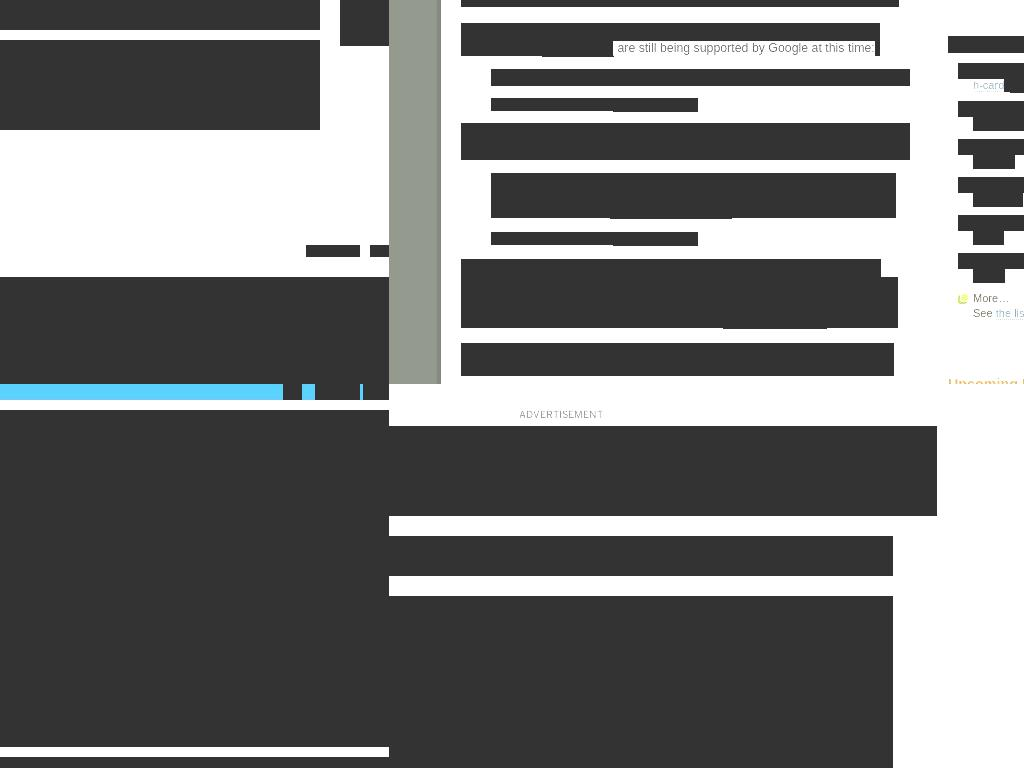button: (389, 596, 893, 768), (0, 277, 389, 384), (0, 40, 320, 130), (147, 440, 389, 514), (147, 539, 389, 613), (147, 638, 389, 712), (340, 297, 389, 371), (340, 0, 389, 46), (743, 277, 882, 293), (610, 205, 732, 219), (723, 313, 827, 329), (613, 98, 698, 112), (613, 232, 698, 246), (542, 41, 614, 57), (756, 343, 809, 359), (973, 117, 1024, 131), (973, 193, 1023, 207), (973, 155, 1015, 169), (973, 269, 1005, 283), (973, 79, 1004, 93), (973, 231, 1004, 245), (995, 307, 1024, 321), (1010, 79, 1024, 93)
heading: (0, 297, 320, 321), (948, 36, 1024, 53)
iframe: (389, 426, 937, 516)
image: (0, 410, 389, 747), (389, 596, 893, 768), (315, 384, 360, 400), (363, 384, 389, 400), (283, 384, 302, 400), (364, 316, 380, 332), (364, 0, 380, 8)
link: (0, 321, 320, 341), (306, 245, 360, 257), (370, 245, 389, 257), (1010, 79, 1024, 93)
text: (0, 40, 320, 130), (461, 277, 898, 328), (389, 536, 893, 576), (491, 173, 896, 218), (461, 123, 910, 160), (461, 343, 894, 376), (461, 259, 881, 292), (461, 23, 880, 56), (147, 457, 389, 513), (147, 556, 389, 612), (147, 655, 367, 711), (491, 69, 910, 86), (389, 410, 913, 421), (461, 343, 756, 358), (613, 41, 875, 56), (55, 757, 389, 768), (461, 0, 899, 7), (147, 440, 389, 452), (147, 539, 389, 551), (147, 638, 389, 650), (491, 98, 614, 111), (491, 232, 614, 245), (958, 63, 1024, 79), (958, 101, 1024, 117), (958, 139, 1024, 155), (958, 177, 1024, 193), (958, 215, 1024, 231), (958, 253, 1024, 269), (958, 291, 1024, 307), (361, 331, 383, 352), (973, 307, 996, 320), (365, 8, 379, 24), (1004, 79, 1011, 92), (826, 313, 830, 328)
